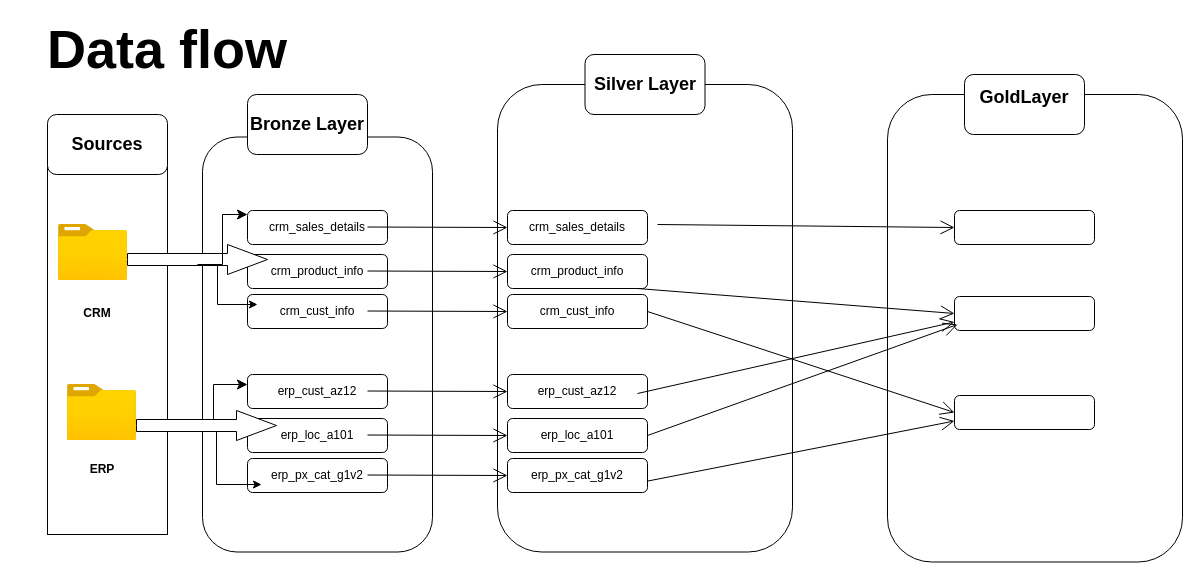
The diagram is 1200 pixels wide and 580 high, and some of its shapes have lost their labels. Here are the shapes that lost their labels. From the top down, the centre of each, then its label:
At point (1024, 227): "Fact_Sales".
At point (1024, 313): "Dim_customers".
At point (1024, 412): "Dim_products".
